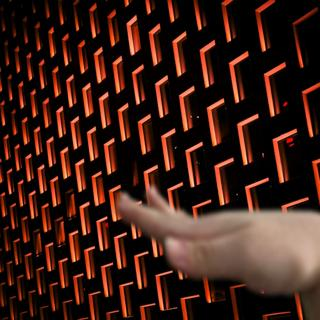Wait: (110, 176, 319, 298)
